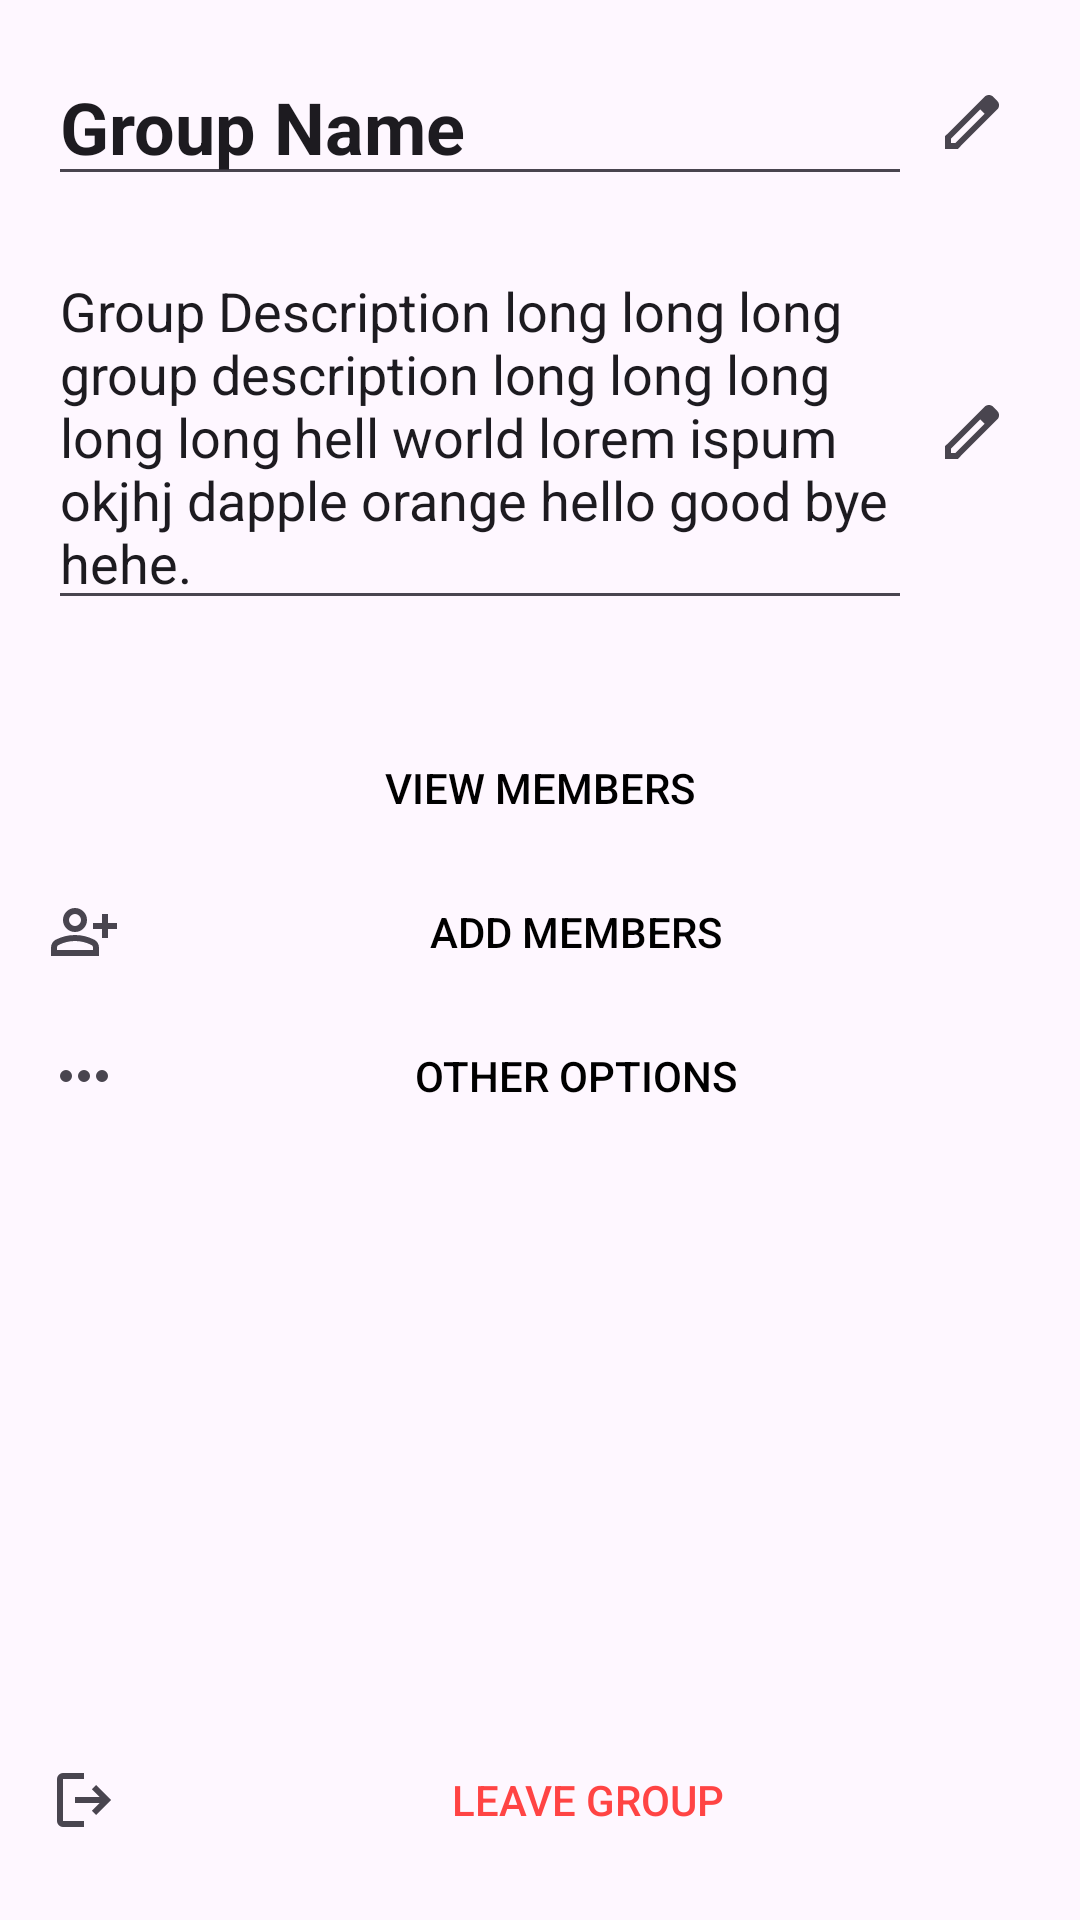

Icons on this 1080 × 1920 Android screen, each with its box as [x1, y1, x2, y2]:
edit: [945, 95, 999, 149], [945, 405, 999, 459]
